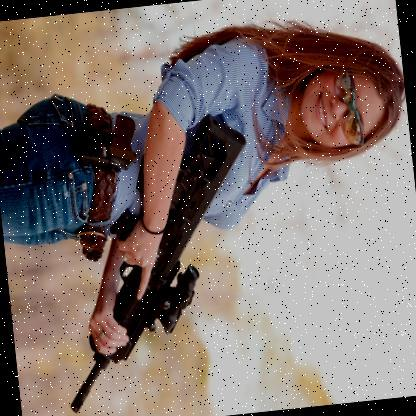rifle: (38, 109, 278, 416)
